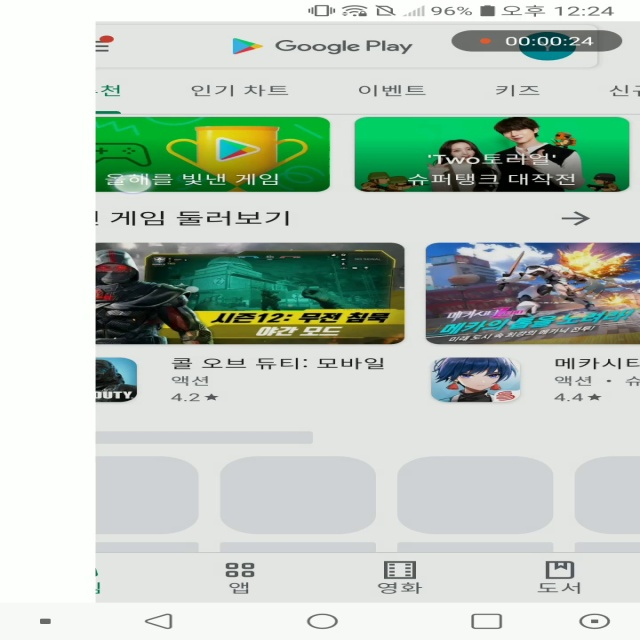Cursor: (111, 172, 155, 195)
